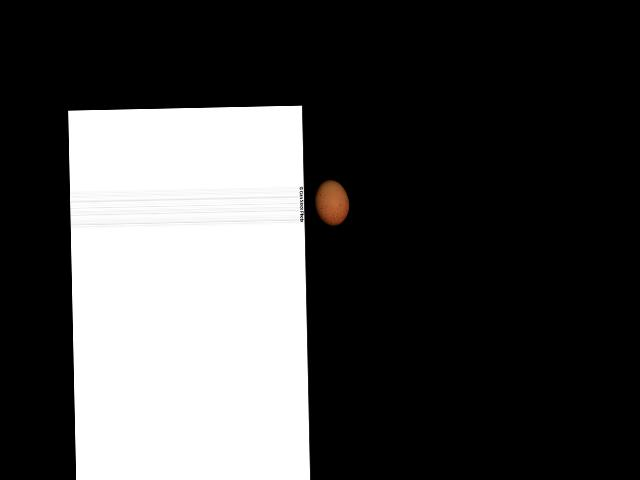egg: (313, 179, 349, 226)
